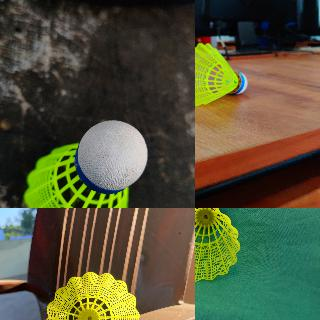shuttlecock: (23, 121, 148, 207), (43, 271, 139, 319), (195, 41, 249, 106), (195, 208, 241, 282)
